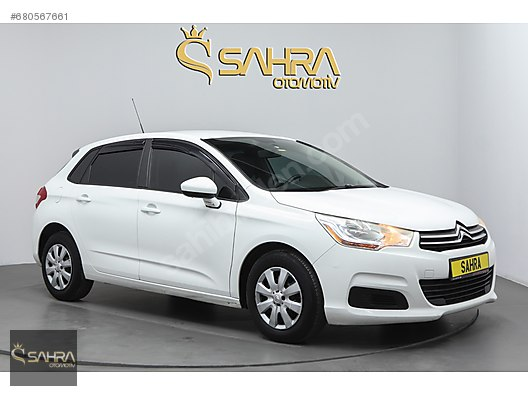c: (32, 115, 512, 342)
